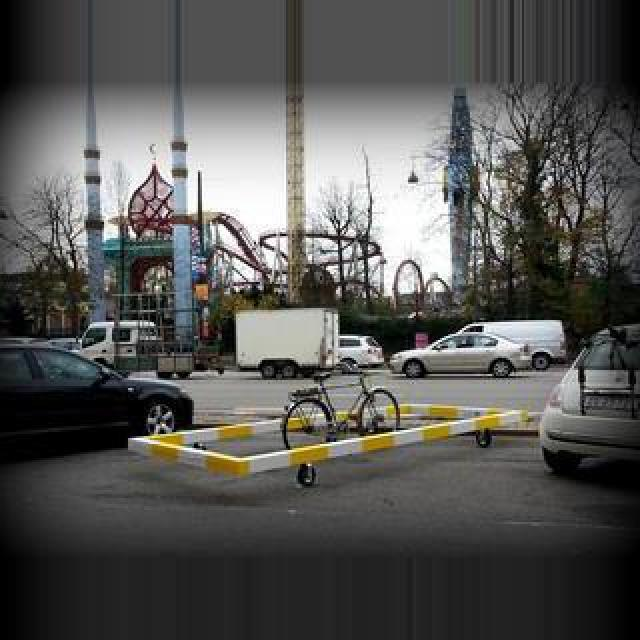Bus-Bike: (2, 340, 192, 454), (538, 326, 640, 480), (388, 332, 538, 378), (334, 336, 384, 374)
Person: (282, 366, 404, 448)
Person-Bike: (80, 300, 340, 378), (460, 320, 568, 372)
